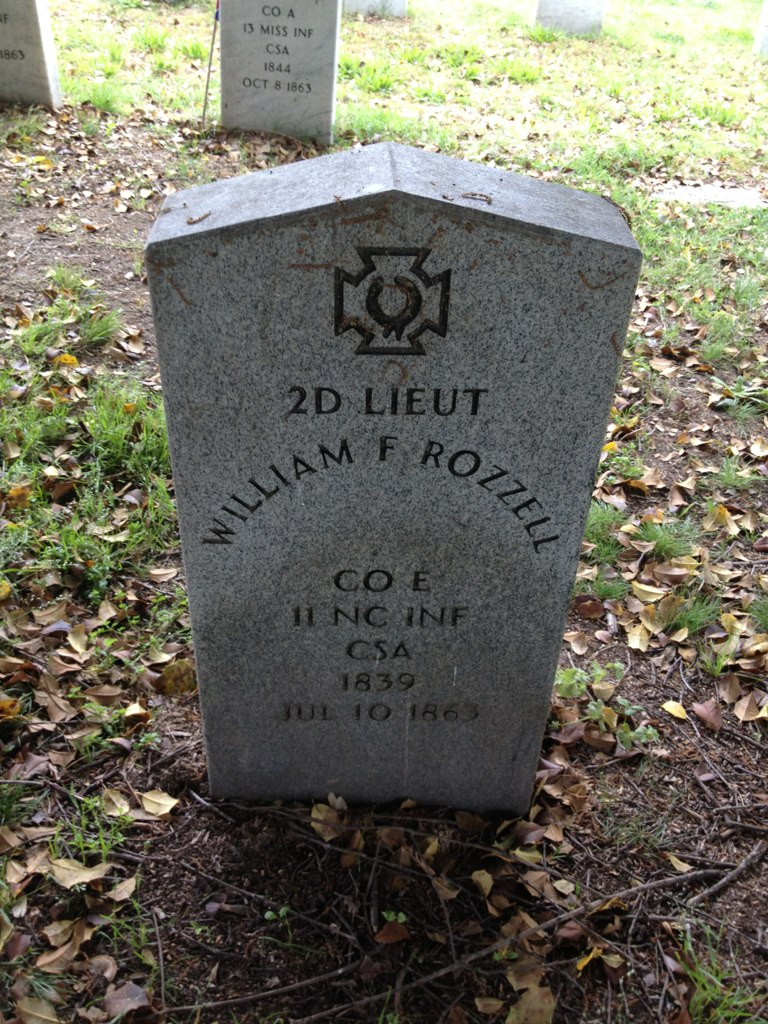military: (146, 144, 638, 797)
